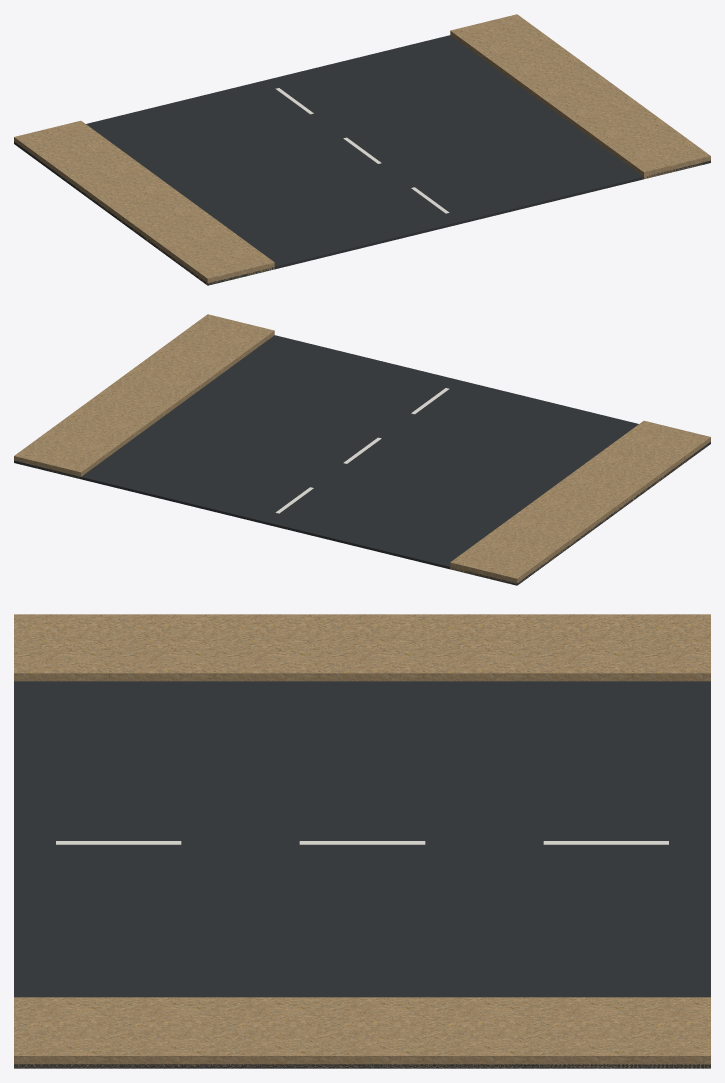
Rendered from calle_doble_sentido_base.glb.
3 views of the same model, one above another, from view 1: azimuth 30°, elevation 25°; view 2: azimuth 150°, elevation 25°; view 3: azimuth 270°, elevation 25° (orthographic). The views are drawn at different scales.
Visible parts, largest first — view 1: calle_doble_sentido_base; view 2: calle_doble_sentido_base; view 3: calle_doble_sentido_base.
Boxes of the visible parts, x1,y1,x2,y2 form: calle_doble_sentido_base: (14, 14, 710, 285); calle_doble_sentido_base: (14, 314, 710, 585); calle_doble_sentido_base: (14, 614, 710, 1068).
Size of the model in its own units: 6 by 0.0798 by 4.
Materials: 3 (1 with a texture image).
